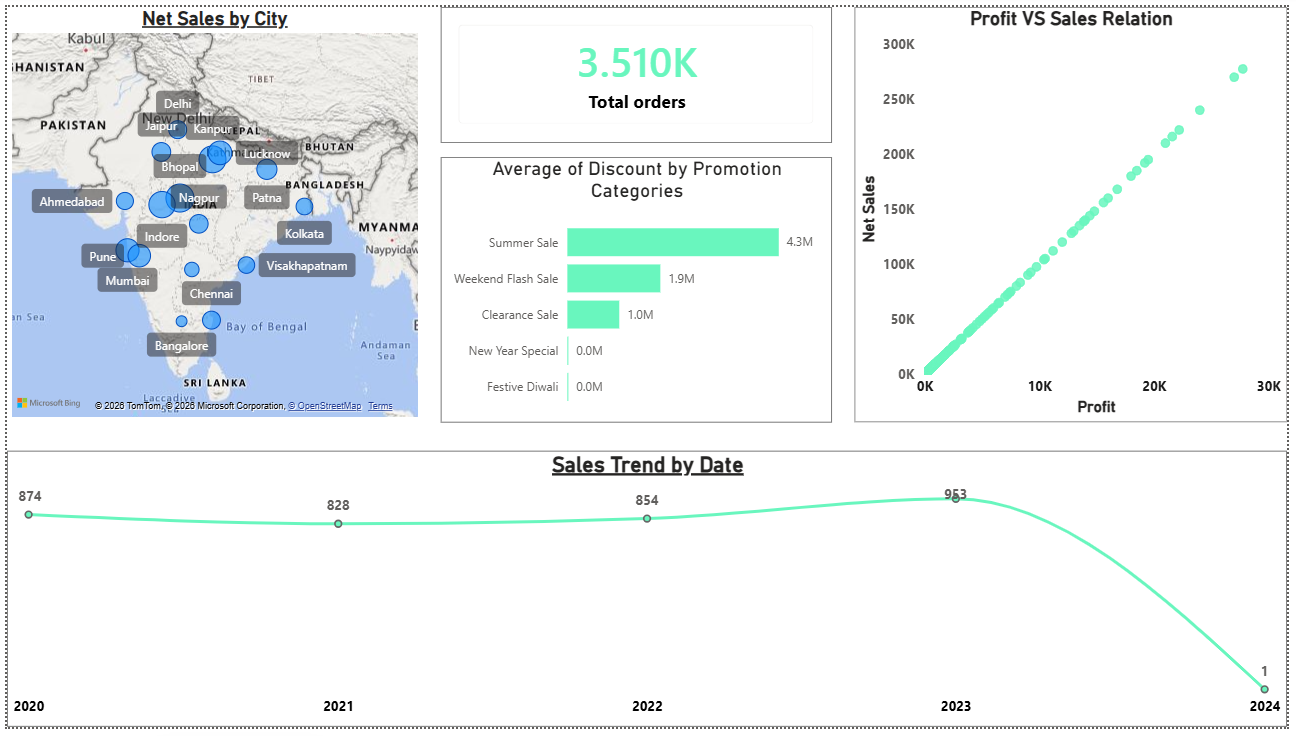

Layout of this report page (visuals, bound fields, positions):
{"tool":"powerbi","page":{"name":"Sales Trend over Date","canvas":[1280,720],"ordinal":1},"visuals":[{"type":"lineChart","title":"Sales Trend by Date","fields":{"Y":["CountNonNull(Fact Table.Total Sales  )"],"Category":["Date Table 1.Date.Variation.Date Hierarchy.Year","Date Table 1.Date.Variation.Date Hierarchy.Quarter","Date Table 1.Date.Variation.Date Hierarchy.Month","Date Table 1.Date.Variation.Date Hierarchy.Day"]},"box":[0,444.1,1280,276.2],"z":0},{"type":"scatterChart","title":"Profit VS Sales Relation","fields":{"X":["Fact Table.Profit"],"Y":["Fact Table.Net Sales "]},"box":[847.5,0,432.5,415],"z":1000},{"type":"barChart","title":"Average of Discount by Promotion Categories","fields":{"Y":["Sum(Fact Table.Discount)"],"Category":["Dim Promotion.Promotion Name"]},"box":[434.3,150,391.4,265.7],"z":2000},{"type":"map","fields":{"Category":["Dim Customers.City"],"Size":["Sum(Fact Table.Net Sales )"]},"box":[0,0,415.7,415.7],"z":3000},{"type":"cardVisual","fields":{"Data":["CountNonNull(Fact Table.Order ID)"]},"box":[434.3,0,391.4,135.7],"z":4000}]}

Visuals, with their boxes in screenshot pixels (x1, y1, x2, y2), scaled from the page's 1280x720 canvas onto the 1296x736 screenshot:
"Sales Trend by Date" lineChart: detection(0, 454, 1295, 735)
"Profit VS Sales Relation" scatterChart: detection(858, 0, 1295, 424)
"Average of Discount by Promotion Categories" barChart: detection(440, 153, 836, 425)
map - Dim Customers.City x Sum(Fact Table.Net Sales ): detection(0, 0, 421, 425)
cardVisual - CountNonNull(Fact Table.Order ID): detection(440, 0, 836, 139)
